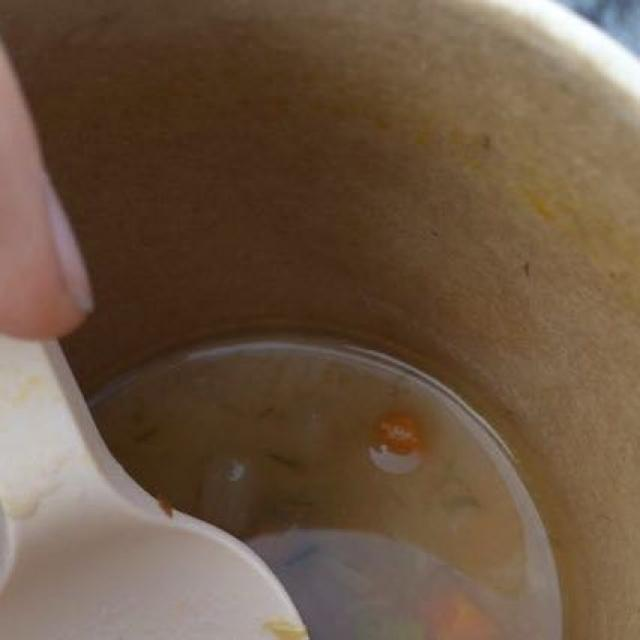soup: (2, 346, 564, 622)
